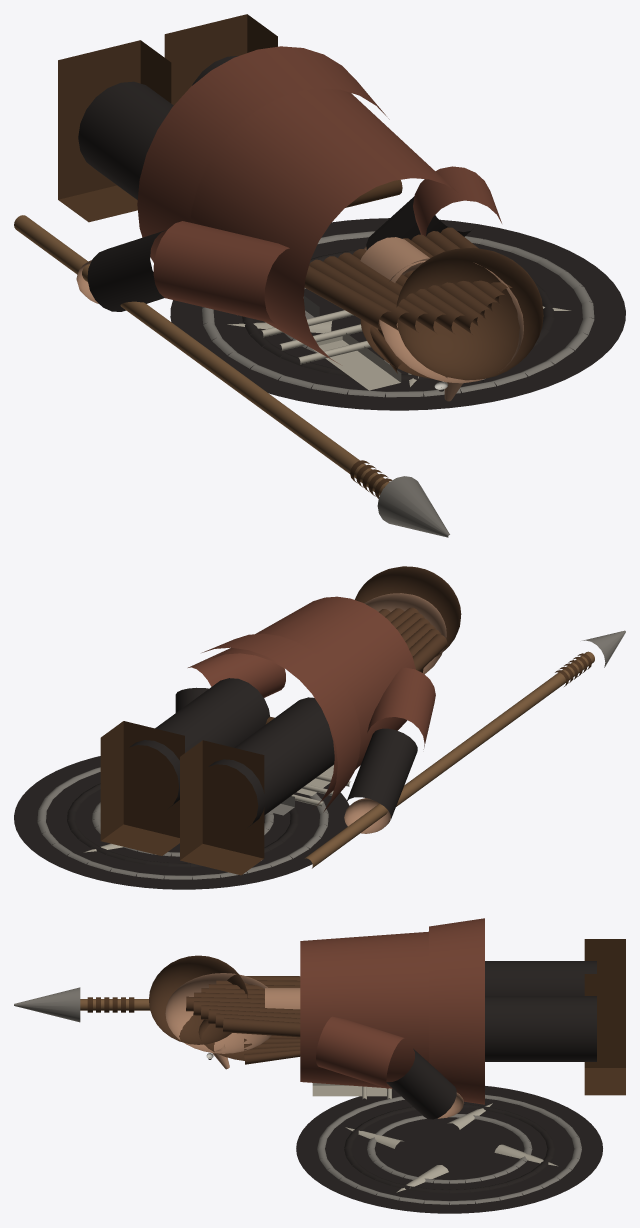
The model's file is khur.glb.
3 renders of one model, top to bottom at view 1: azimuth 30°, elevation 25°; view 2: azimuth 150°, elevation 25°; view 3: azimuth 270°, elevation 25°, orthographic. The views are drawn at different scales.
Visible parts, largest first — view 1: VikingWarrior; view 2: VikingWarrior; view 3: VikingWarrior.
Boxes of the visible parts, bbox=[...] form: VikingWarrior: bbox=[14, 14, 625, 537]; VikingWarrior: bbox=[14, 566, 625, 889]; VikingWarrior: bbox=[14, 918, 625, 1213].
Size of the model in its own units: 1.85 by 1.15 by 2.95.
